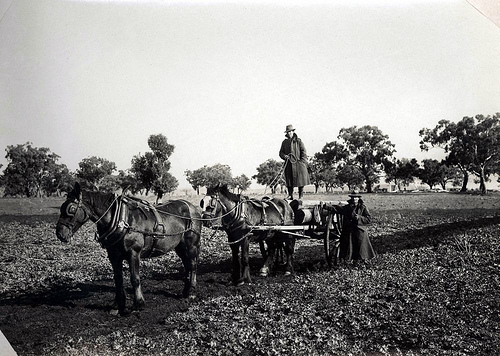horse: (55, 180, 202, 317), (199, 183, 298, 287)
